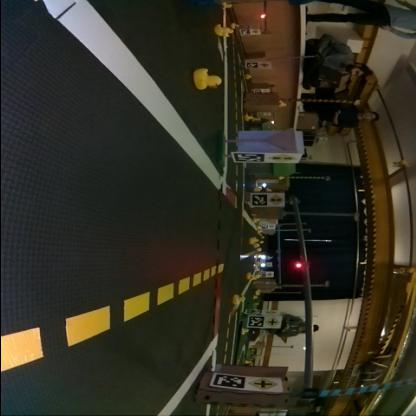Duckie: (193, 68, 220, 90), (214, 26, 228, 36), (233, 294, 245, 303), (222, 2, 232, 8), (247, 273, 255, 279), (241, 328, 249, 334), (232, 23, 240, 28), (252, 240, 258, 244)
Intersection sign: (250, 376, 280, 390), (268, 317, 282, 327)
QR code: (212, 373, 246, 386), (232, 153, 265, 160), (251, 194, 266, 206), (249, 316, 265, 326)
Signal sign: (270, 153, 297, 161), (270, 192, 284, 204)
Traffic light: (297, 261, 311, 267)
